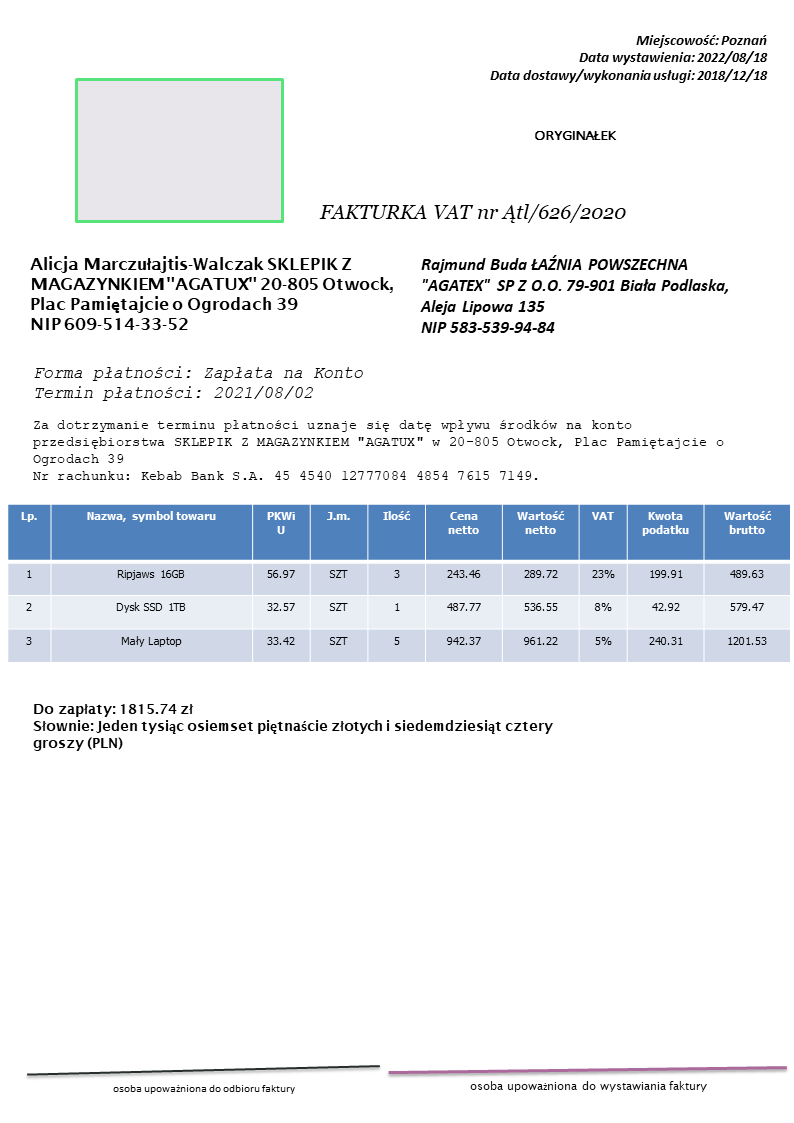Table: (6, 502, 794, 664)
TextBox: (30, 415, 726, 483), (28, 252, 399, 335), (29, 699, 556, 754), (417, 253, 731, 338), (484, 29, 770, 87), (31, 362, 364, 402), (317, 199, 627, 225), (467, 1077, 710, 1097), (109, 1082, 297, 1097), (530, 126, 618, 145)
